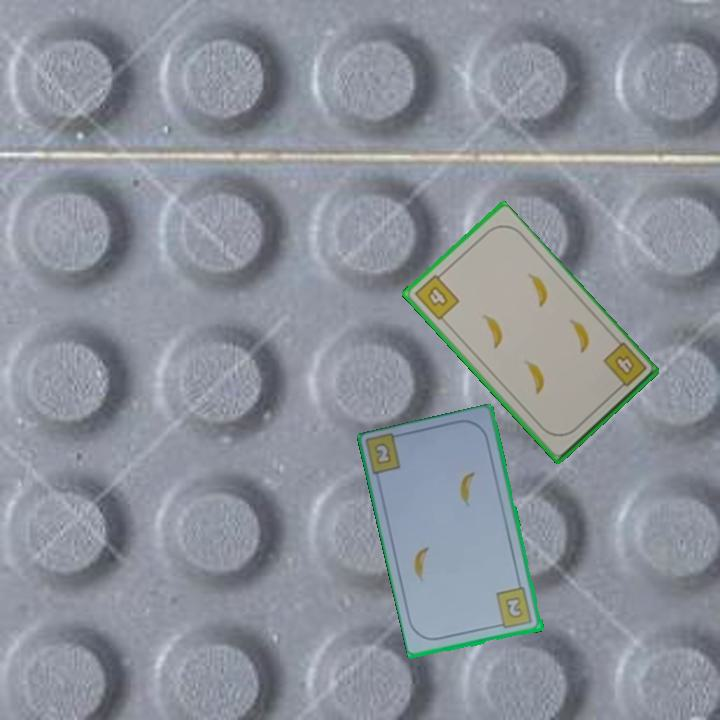2b: (493, 584, 535, 632), (373, 441, 392, 465)
4b: (411, 268, 462, 323), (599, 339, 650, 394)
